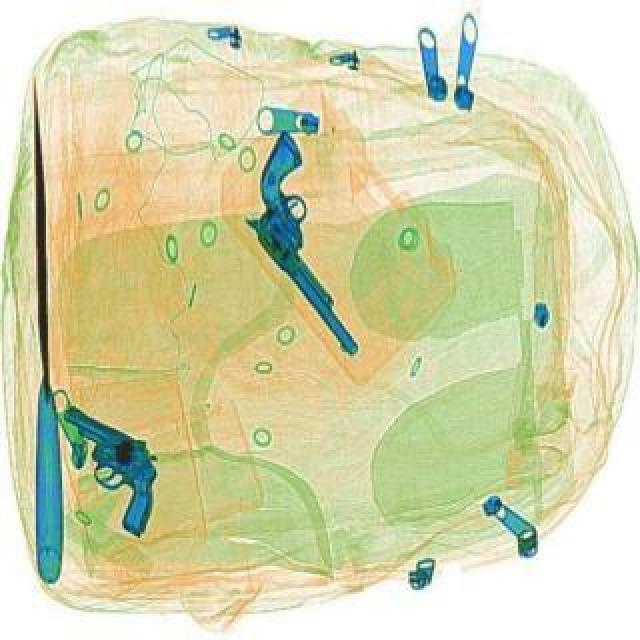gun: (206, 128, 428, 356), (20, 398, 188, 536)
knife: (14, 74, 66, 578)
